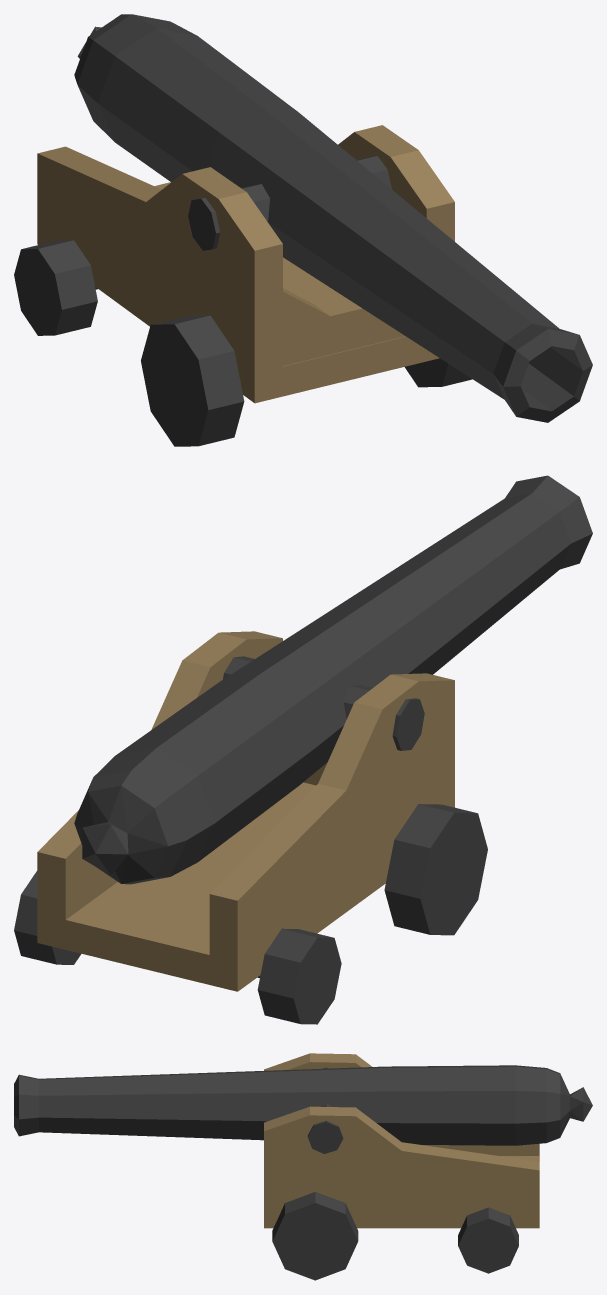
Rendered from Ship Cannon.fbx.
3 views of the same model, one above another, from view 1: azimuth 30°, elevation 25°; view 2: azimuth 150°, elevation 25°; view 3: azimuth 270°, elevation 25° (orthographic). The views are drawn at different scales.
Visible parts, largest first — view 1: Cylinder.020, Cube.303, Cylinder.019, Cylinder.040; view 2: Cylinder.020, Cube.303, Cylinder.019, Cylinder.040; view 3: Cylinder.020, Cube.303, Cylinder.019, Cylinder.040.
Boxes of the visible parts, x1,y1,x2,y2 form: Cylinder.020: [74, 14, 592, 422]; Cube.303: [37, 125, 454, 403]; Cylinder.019: [14, 240, 472, 446]; Cylinder.040: [188, 156, 391, 250]; Cylinder.020: [74, 475, 592, 884]; Cube.303: [37, 631, 454, 991]; Cylinder.019: [14, 804, 487, 1024]; Cylinder.040: [223, 656, 424, 750]; Cylinder.020: [14, 1065, 592, 1145]; Cube.303: [264, 1053, 539, 1228]; Cylinder.019: [272, 1192, 518, 1280]; Cylinder.040: [307, 1067, 343, 1153].
Size of the model in its own units: 1.22 by 1.12 by 3.44.
